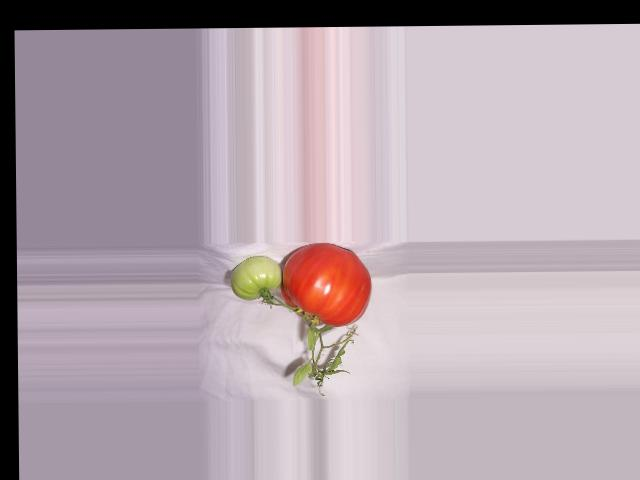tomato: (279, 243, 371, 327)
